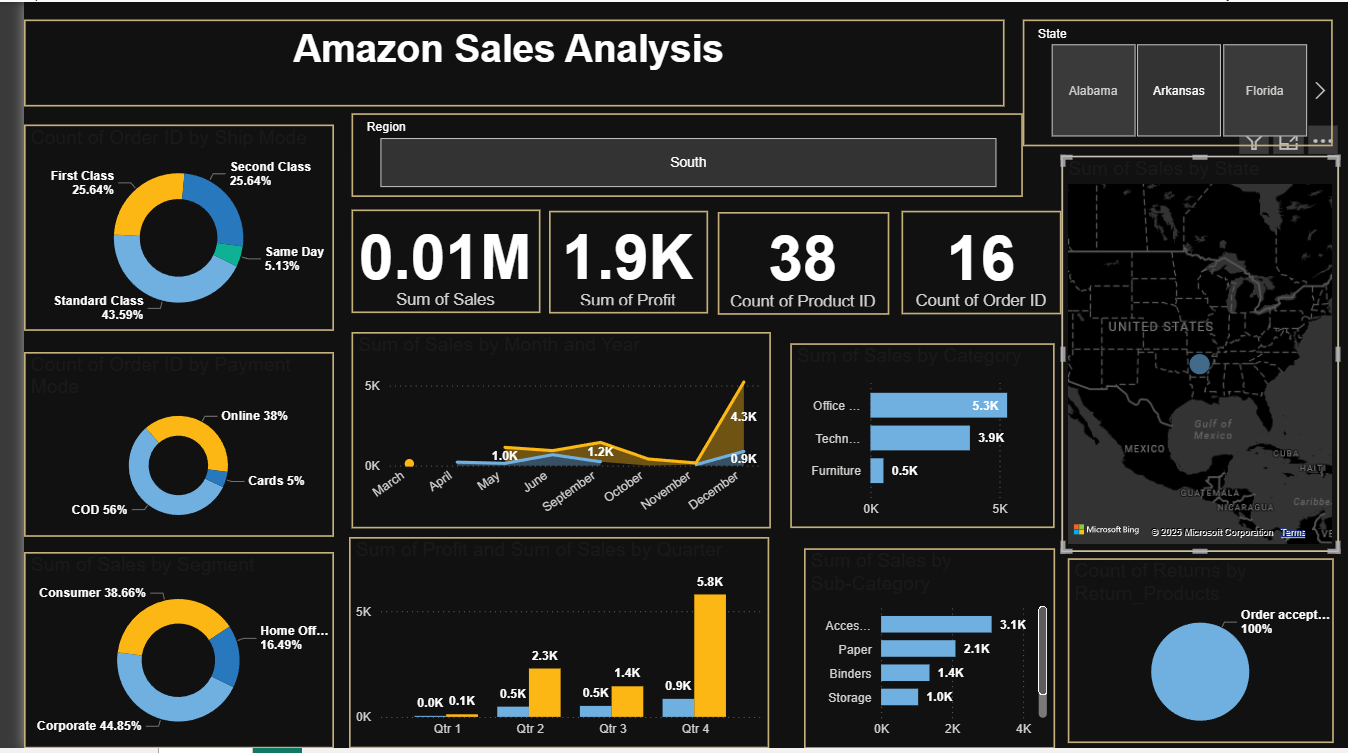

What the dashboard file says about the page in this screenshot:
{"tool":"powerbi","page":{"name":"Page 1","canvas":[1280,720],"ordinal":0},"visuals":[{"type":"clusteredBarChart","fields":{"Category":["Sheet1.Category"],"Y":["Sum(Sheet1.Sales)"]},"box":[739.8,328.9,255.6,178.5],"z":0},{"type":"clusteredBarChart","fields":{"Y":["Sum(Sheet1.Sales)"],"Category":["Sheet1.Sub-Category"]},"box":[753.3,527,242.1,193.2],"z":1000},{"type":"donutChart","fields":{"Category":["Sheet1.Payment Mode"],"Y":["CountNonNull(Sheet1.Order ID)"]},"box":[0,337.8,299.2,178.6],"z":2000},{"type":"donutChart","fields":{"Y":["Sum(Sheet1.Sales)"],"Category":["Sheet1.Segment"]},"box":[0,530.8,299.2,189.4],"z":3000},{"type":"donutChart","fields":{"Category":["Sheet1.Ship Mode"],"Y":["CountNonNull(Sheet1.Order ID)"]},"box":[0,118.6,299.6,199.3],"z":4000},{"type":"pieChart","fields":{"Category":["Sheet1.Return_Products"],"Y":["CountNonNull(Sheet1.Returns)"]},"box":[1007.4,536.9,257,178.6],"z":5000},{"type":"stackedAreaChart","fields":{"Category":["Sheet1.Order Date.Variation.Date Hierarchy.Month","Sheet1.Order Date.Variation.Date Hierarchy.Year"],"Y":["Sum(Sheet1.Sales)"],"Series":["Sheet1.Order Date.Variation.Date Hierarchy.Year"]},"box":[315.5,317.9,404.8,189.5],"z":6000},{"type":"clusteredColumnChart","fields":{"Y":["Sum(Sheet1.Profit)","Sum(Sheet1.Sales)"],"Category":["Sheet1.Order Date.Variation.Date Hierarchy.Quarter"]},"box":[314.3,516,406,204.2],"z":7000},{"type":"map","fields":{"Category":["Sheet1.State"],"Size":["Sum(Sheet1.Sales)"]},"box":[1001.5,148,267.8,382.7],"z":8000},{"type":"textbox","box":[0,17.1,946.5,84.4],"z":9000},{"type":"card","fields":{"Values":["Sum(Sheet1.Sales)"]},"box":[315.5,200.5,182.2,100.3],"z":10000},{"type":"card","fields":{"Values":["Sum(Sheet1.Profit)"]},"box":[506.7,201.5,153.2,98.9],"z":11000},{"type":"card","fields":{"Values":["Count(Sheet1.Product ID)"]},"box":[669.6,202.7,165.3,98.9],"z":12000},{"type":"card","fields":{"Values":["Count(Sheet1.Order ID)"]},"box":[846.9,201.5,154.4,100.1],"z":13000},{"type":"slicer","fields":{"Values":["Sheet1.Region"]},"box":[315.5,107.6,648.1,80.7],"z":14000},{"type":"slicer","fields":{"Values":["Sheet1.State"]},"box":[963.6,17.1,299.6,122.3],"z":15000}]}

Visuals, with their boxes in screenshot pixels (x1, y1, x2, y2), scaled from the page's 1280x720 canvas onto the 1348x753 screenshot:
clusteredBarChart - Sheet1.Category x Sum(Sheet1.Sales): l=779, t=344, r=1048, b=531
clusteredBarChart - Sum(Sheet1.Sales) x Sheet1.Sub-Category: l=793, t=551, r=1048, b=752
donutChart - Sheet1.Payment Mode x CountNonNull(Sheet1.Order ID): l=0, t=353, r=315, b=540
donutChart - Sum(Sheet1.Sales) x Sheet1.Segment: l=0, t=555, r=315, b=752
donutChart - Sheet1.Ship Mode x CountNonNull(Sheet1.Order ID): l=0, t=124, r=316, b=332
pieChart - Sheet1.Return_Products x CountNonNull(Sheet1.Returns): l=1061, t=562, r=1332, b=748
stackedAreaChart - Sheet1.Order Date.Variation.Date Hierarchy.Month x Sheet1.Order Date.Variation.Date Hierarchy.Year: l=332, t=332, r=759, b=531
clusteredColumnChart - Sum(Sheet1.Profit) x Sum(Sheet1.Sales): l=331, t=540, r=759, b=752
map - Sheet1.State x Sum(Sheet1.Sales): l=1055, t=155, r=1337, b=555
textbox: l=0, t=18, r=997, b=106
card - Sum(Sheet1.Sales): l=332, t=210, r=524, b=315
card - Sum(Sheet1.Profit): l=534, t=211, r=695, b=314
card - Count(Sheet1.Product ID): l=705, t=212, r=879, b=315
card - Count(Sheet1.Order ID): l=892, t=211, r=1054, b=315
slicer - Sheet1.Region: l=332, t=113, r=1015, b=197
slicer - Sheet1.State: l=1015, t=18, r=1330, b=146
